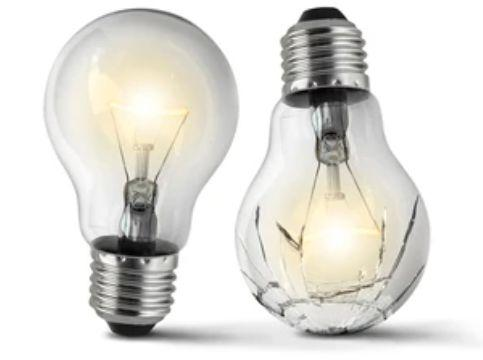light bulb: (38, 4, 243, 339), (233, 5, 440, 336)
